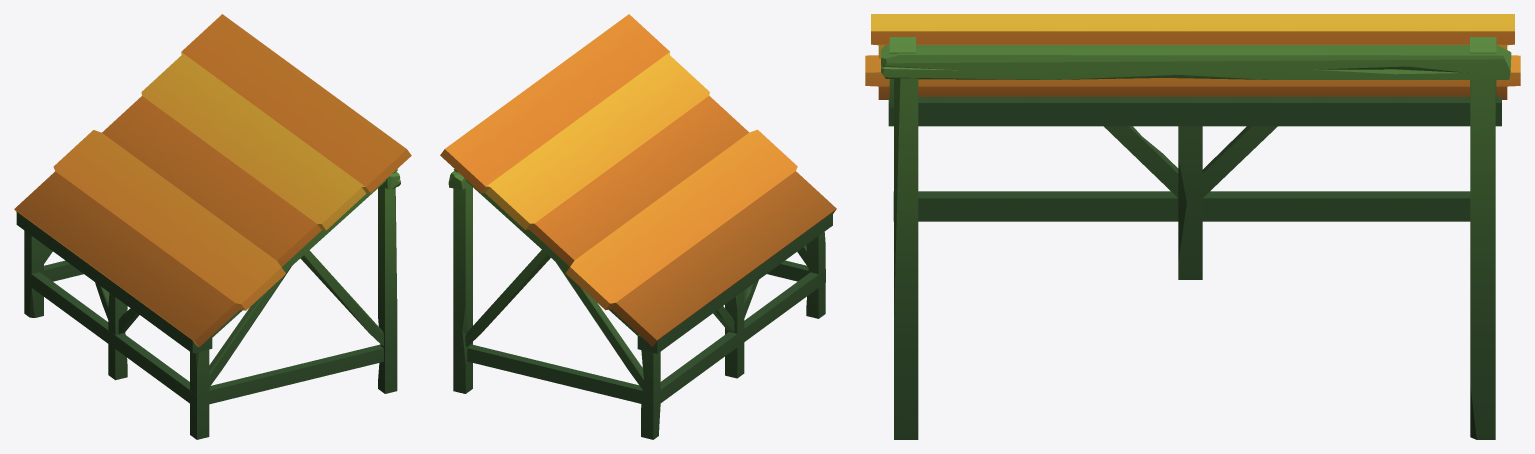
Rendered from Hide.fbx.
3 renders of one model, left to right at view 1: azimuth 30°, elevation 25°; view 2: azimuth 150°, elevation 25°; view 3: azimuth 270°, elevation 25°, orthographic. The views are drawn at different scales.
Visible parts, largest first — view 1: Hide; view 2: Hide; view 3: Hide.
Boxes of the visible parts, x1,y1,x2,y2 form: Hide: (14, 14, 411, 439); Hide: (440, 14, 836, 439); Hide: (865, 14, 1520, 439).
Bounding box in the file's own units: 517 × 565 × 783.
